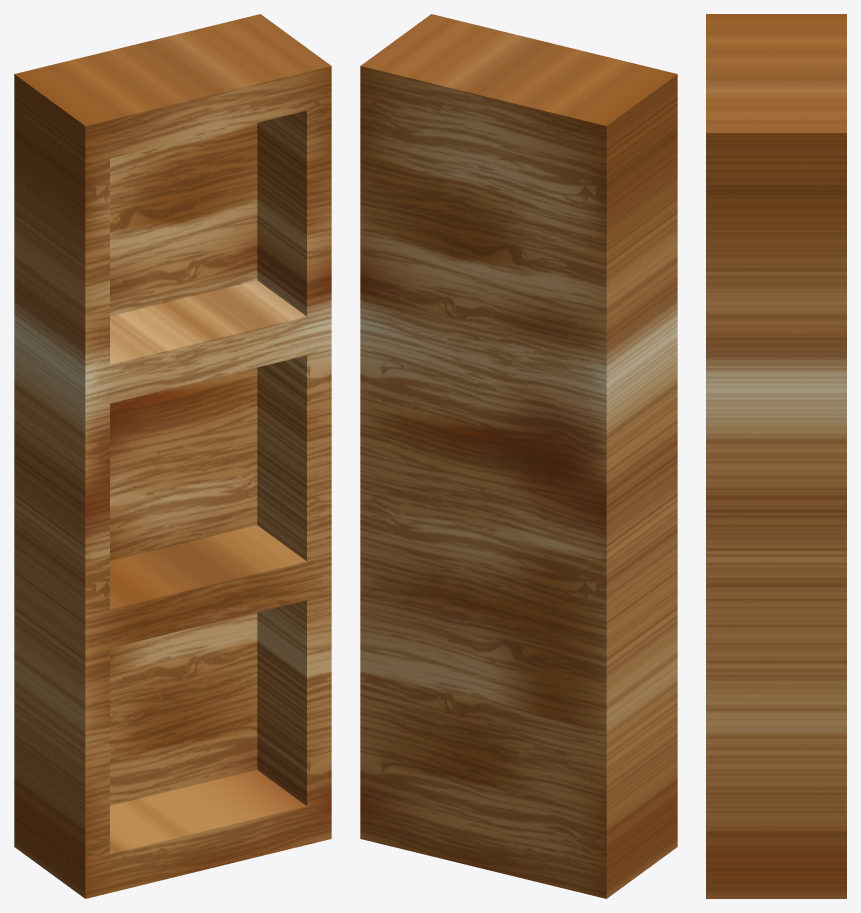
File: Furniture_Shelf_Little.fbx
The picture shows the model from 3 angles, left to right: view 1: azimuth 30°, elevation 25°; view 2: azimuth 150°, elevation 25°; view 3: azimuth 270°, elevation 25°; orthographic projection.
Parts seen in each view (by area): view 1: pCube1; view 2: pCube1; view 3: pCube1.
Boxes of the visible parts, left/top/right/bottom form: pCube1: left=14, top=14, right=331, bottom=898; pCube1: left=360, top=14, right=677, bottom=898; pCube1: left=706, top=14, right=846, bottom=898.
Bounding box in the file's own units: 100 × 300 × 50.
1 material, 1 textured.
